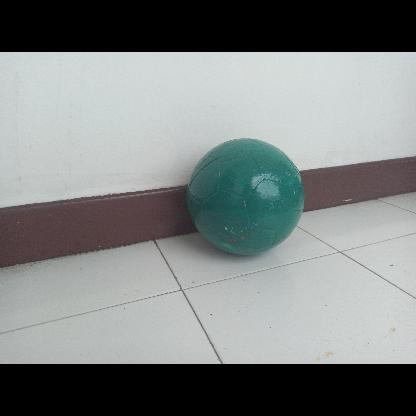green_ball: (188, 136, 306, 256)
